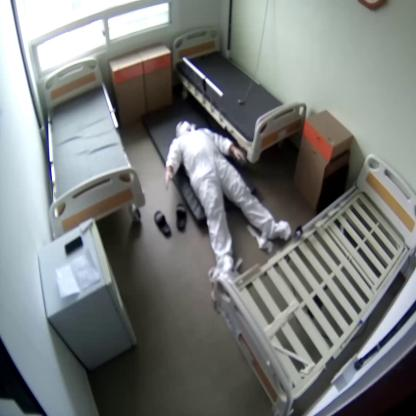Person: (166, 120, 291, 273)
